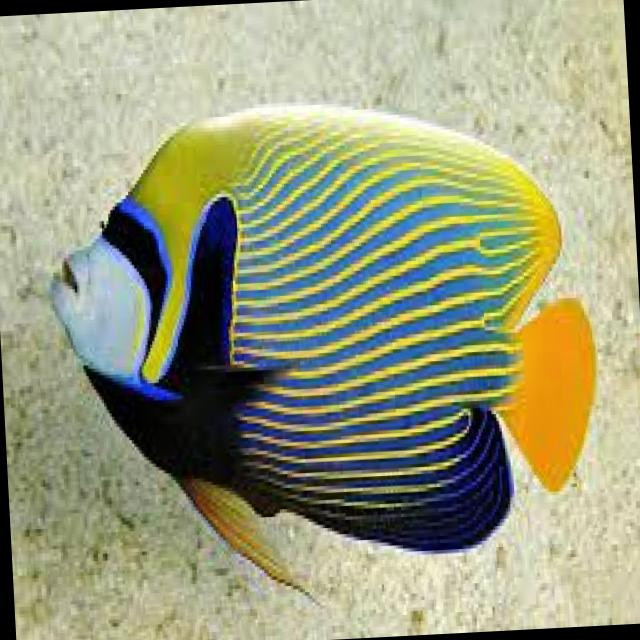AngelFish: (39, 85, 608, 616)
